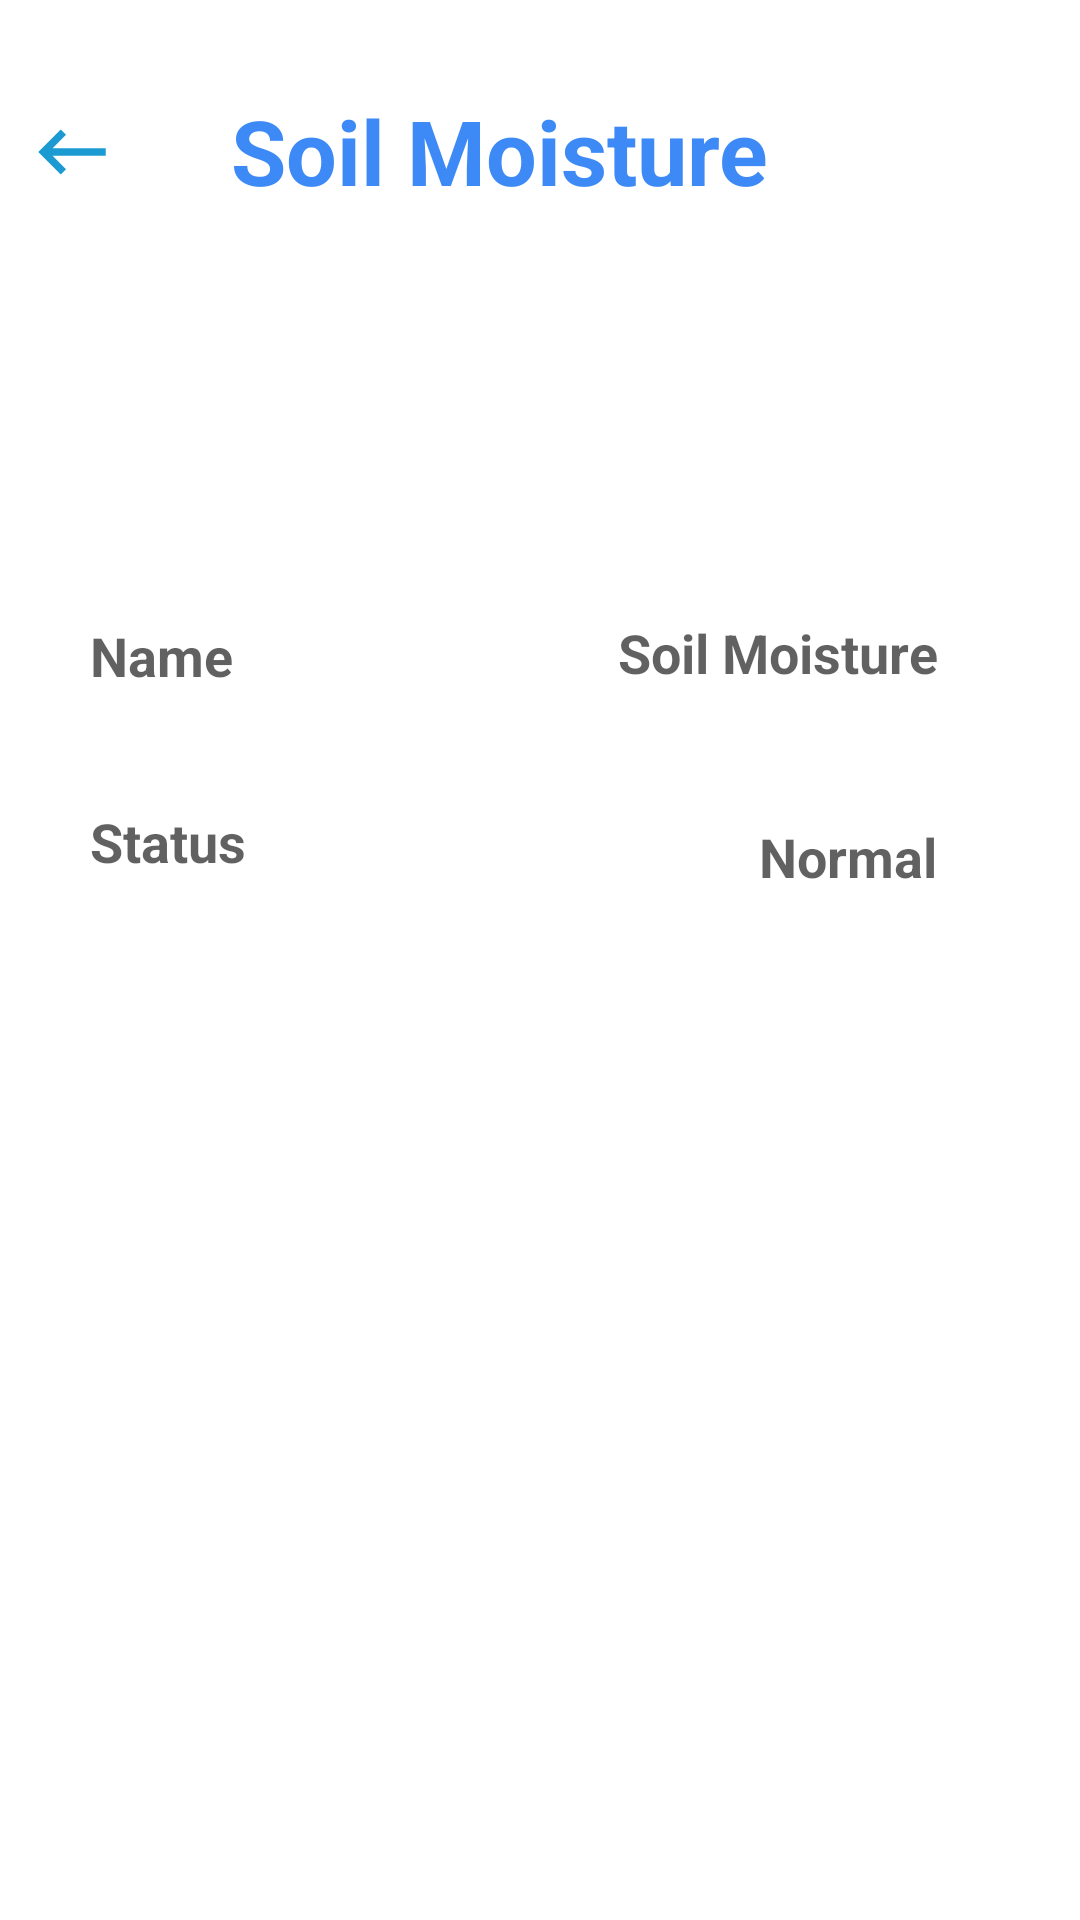

Icon bounding boxes for this 1080*1920 phone screenshot, format [x1, y1, x2, y2]:
keyboard backspace: [38, 129, 106, 175]
